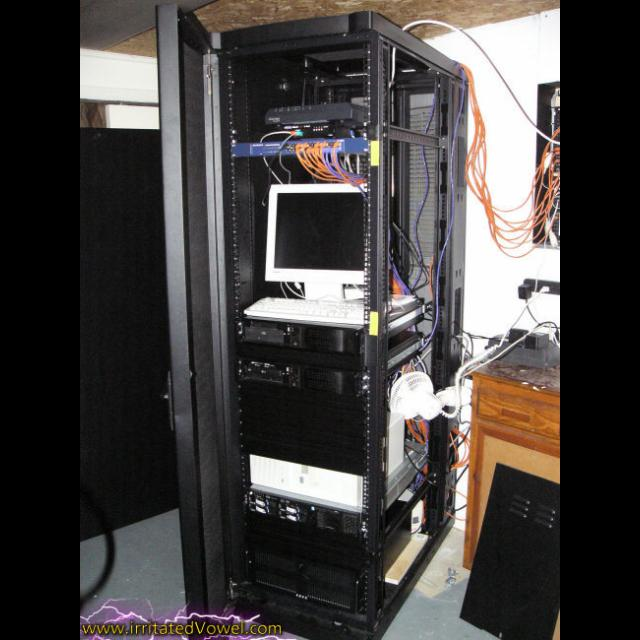Server: (207, 12, 471, 632)
